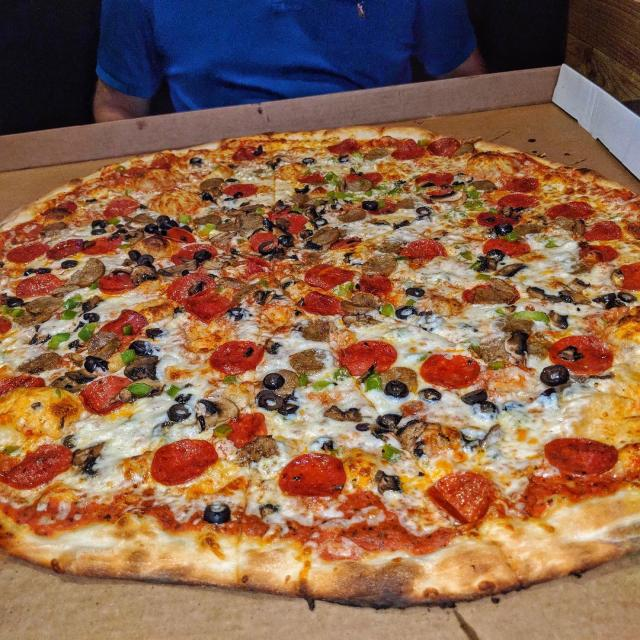black_olives: (254, 390, 288, 410), (540, 365, 572, 385), (202, 503, 231, 524), (385, 381, 409, 399), (168, 402, 191, 420), (128, 341, 156, 355), (84, 356, 108, 372), (476, 402, 498, 419), (464, 389, 488, 404), (379, 413, 402, 428), (539, 388, 557, 406), (419, 387, 442, 401), (264, 373, 284, 389), (227, 306, 248, 320), (280, 402, 300, 416), (396, 306, 416, 320), (256, 242, 278, 254), (407, 287, 427, 299), (146, 327, 166, 338), (486, 249, 504, 261), (175, 392, 193, 404), (620, 291, 636, 304), (596, 293, 616, 303), (192, 250, 212, 260), (496, 224, 512, 235), (138, 254, 154, 265), (161, 220, 178, 230), (127, 249, 141, 261), (278, 235, 293, 246), (144, 223, 159, 234), (363, 201, 378, 211), (354, 423, 372, 431), (8, 296, 22, 306), (417, 207, 432, 216), (606, 302, 628, 308), (157, 214, 170, 224), (84, 314, 100, 322), (90, 229, 107, 236), (314, 218, 328, 226), (62, 260, 78, 267), (299, 230, 312, 238), (190, 157, 201, 165), (303, 157, 315, 164), (226, 177, 240, 183), (254, 145, 262, 155), (24, 269, 35, 276), (36, 268, 51, 273), (338, 156, 349, 162), (181, 226, 192, 232)
mushrooms: (195, 393, 239, 431), (118, 377, 166, 404), (234, 435, 278, 463), (396, 418, 428, 452), (123, 354, 161, 381), (70, 441, 107, 465), (528, 286, 576, 304), (17, 352, 61, 371), (372, 471, 406, 495), (252, 288, 285, 309), (159, 260, 197, 277), (323, 406, 363, 422), (130, 266, 160, 284), (50, 374, 84, 389), (428, 190, 464, 203), (497, 263, 526, 278), (67, 369, 99, 382), (476, 256, 498, 272), (107, 265, 133, 278), (81, 296, 99, 313), (265, 338, 282, 356), (611, 268, 626, 288), (567, 280, 588, 292), (126, 231, 144, 243)
pepperoni: (426, 470, 496, 527), (0, 443, 73, 491), (150, 438, 219, 486), (279, 452, 347, 497), (544, 437, 620, 476), (549, 334, 613, 376), (333, 338, 398, 376), (94, 308, 152, 349), (418, 352, 482, 389), (79, 376, 133, 418), (210, 338, 266, 376), (462, 281, 526, 309), (186, 294, 236, 324), (301, 263, 356, 290), (226, 414, 269, 446), (298, 291, 348, 318), (168, 273, 218, 299), (170, 244, 221, 268), (546, 198, 595, 222), (482, 237, 530, 260), (17, 274, 62, 298), (0, 373, 46, 396), (401, 239, 449, 261), (584, 217, 623, 243), (45, 237, 83, 262), (359, 274, 394, 300), (82, 234, 122, 256), (476, 210, 524, 228), (611, 262, 640, 291), (97, 274, 138, 294), (248, 230, 282, 254), (6, 243, 48, 262), (414, 172, 457, 190), (578, 244, 621, 262), (496, 193, 540, 209), (235, 255, 268, 276), (426, 138, 460, 158), (392, 139, 424, 160), (276, 214, 309, 234), (360, 199, 398, 216), (344, 172, 383, 188), (102, 201, 140, 217), (164, 227, 198, 244), (505, 176, 541, 192), (328, 138, 358, 155), (232, 146, 262, 161), (296, 171, 326, 186), (224, 184, 256, 198), (330, 238, 360, 249), (52, 201, 77, 212), (0, 316, 12, 337)
pizza: (0, 126, 640, 611)
